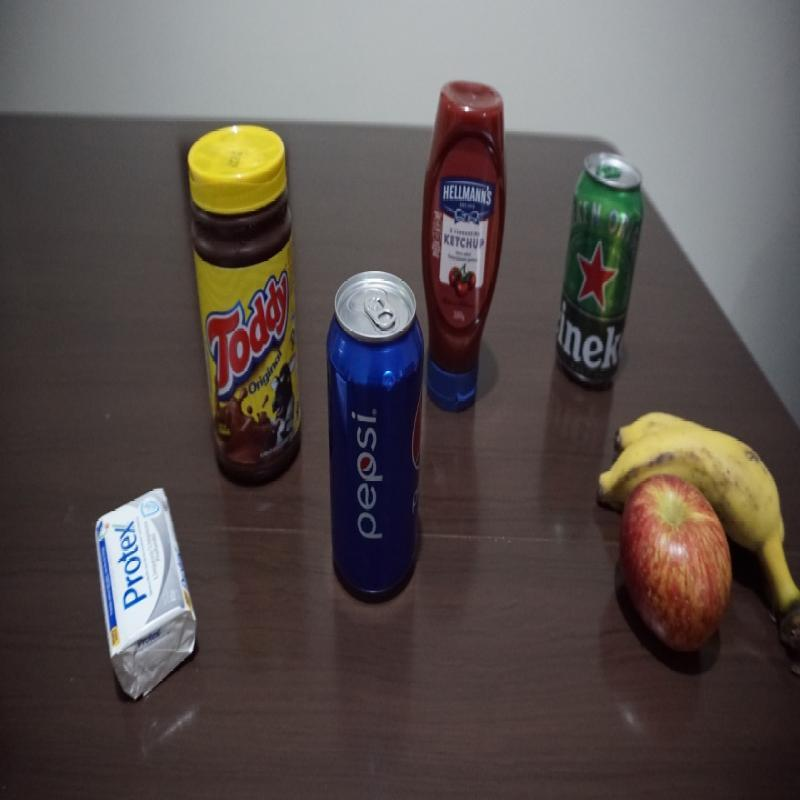Apple: (618, 489, 734, 654)
Banana: (599, 405, 778, 486)
Beer can: (555, 150, 644, 390)
Chocolate Powder: (180, 122, 303, 488)
Ketchup: (425, 82, 506, 411)
Soap: (96, 484, 202, 705)
Soda can: (325, 267, 426, 601)
